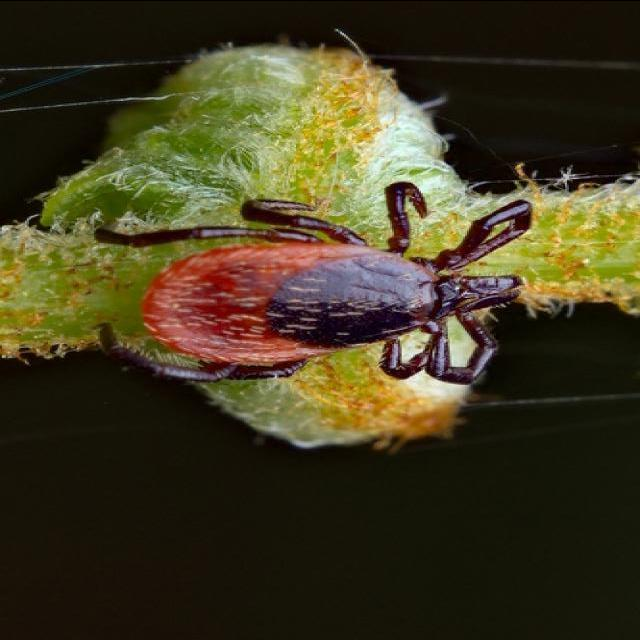Ixodes Ricinus-F: (96, 180, 530, 384)
